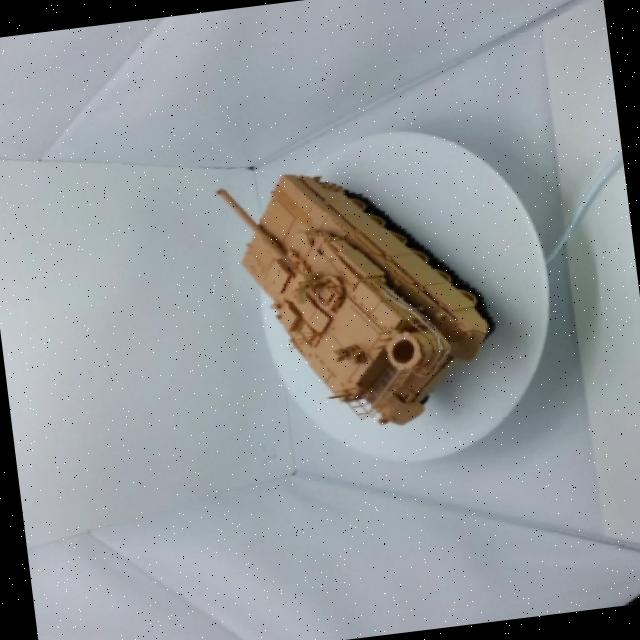korea tank: (178, 122, 518, 454)
